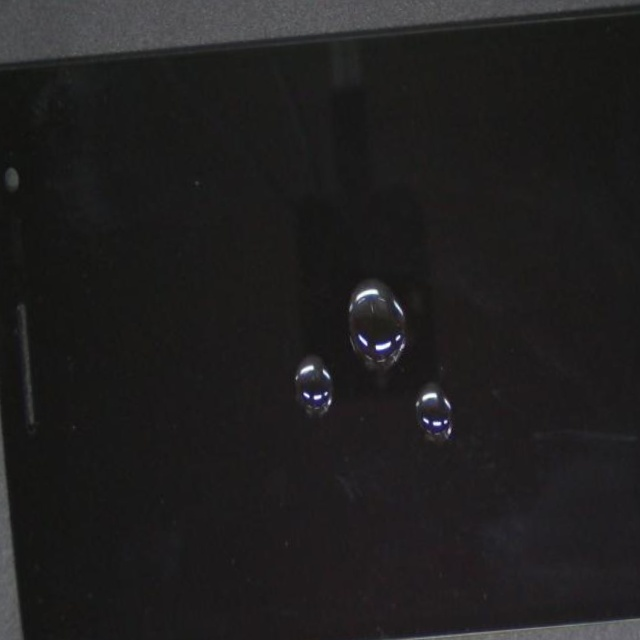oil: (209, 152, 640, 633), (192, 101, 619, 466), (134, 116, 469, 581)
